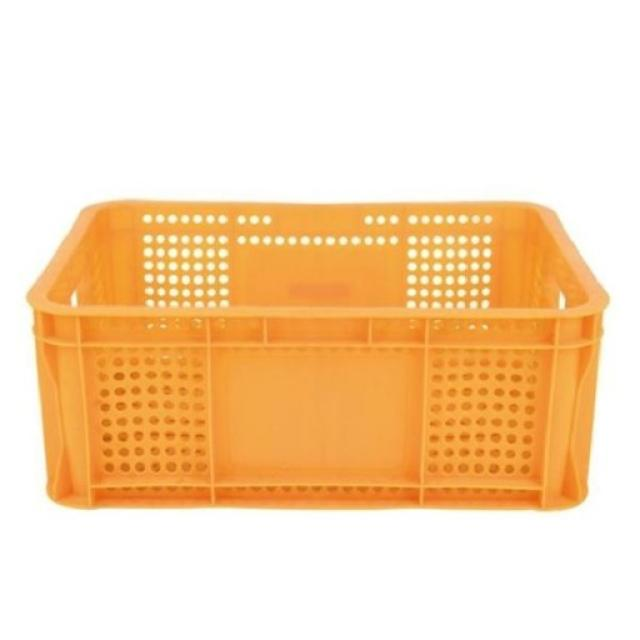basket: (29, 202, 610, 509)
